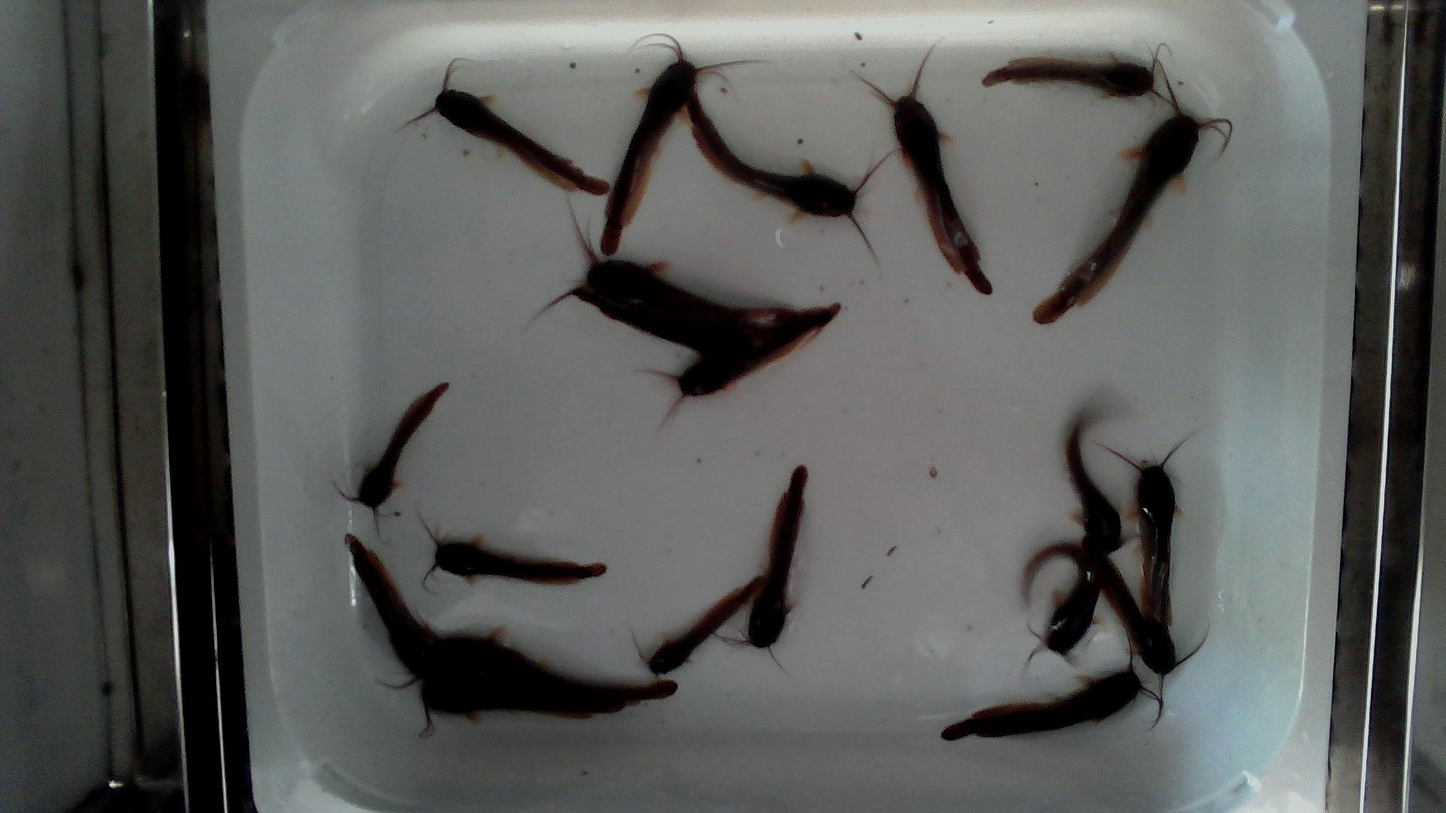lele: (1035, 110, 1229, 324), (685, 80, 891, 258), (534, 220, 798, 345), (872, 58, 991, 294), (403, 61, 610, 195), (638, 302, 843, 434), (600, 35, 696, 254), (1097, 429, 1200, 630), (941, 662, 1163, 740), (431, 630, 682, 698), (340, 384, 449, 531), (418, 674, 645, 741), (1088, 547, 1179, 707), (344, 535, 438, 684), (574, 290, 750, 362), (648, 576, 761, 674), (746, 466, 807, 647), (1024, 543, 1102, 653), (1064, 417, 1127, 551), (430, 540, 606, 583), (984, 59, 1154, 97)
